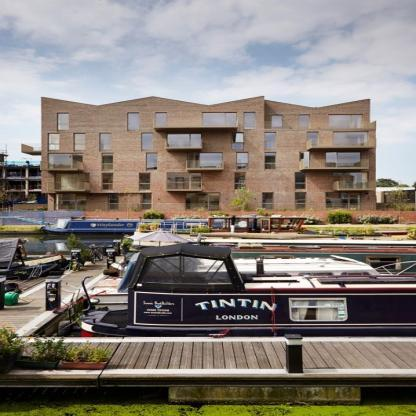Balcony: (153, 119, 239, 128), (307, 138, 376, 148), (300, 160, 369, 169), (47, 182, 90, 192), (41, 160, 83, 170), (186, 160, 224, 170), (334, 181, 371, 191), (167, 182, 201, 191), (21, 144, 42, 153)
Building Outline: (20, 95, 377, 211)
Door: (226, 113, 237, 130), (190, 133, 201, 150), (72, 153, 83, 170), (190, 173, 201, 190), (209, 193, 220, 210), (327, 152, 338, 169), (334, 173, 345, 189), (79, 174, 90, 190), (189, 153, 200, 169), (307, 132, 318, 148), (351, 115, 362, 130)
Facade: (20, 96, 377, 212)
Floor Slab: (42, 191, 376, 193), (42, 130, 376, 131), (42, 151, 376, 152), (42, 171, 376, 172)
Window: (334, 133, 368, 149), (326, 192, 348, 210), (49, 153, 72, 170), (167, 133, 189, 150), (339, 152, 361, 169), (167, 173, 189, 190), (186, 193, 208, 210), (203, 113, 225, 130), (55, 174, 78, 190), (346, 173, 368, 189), (201, 153, 222, 169), (55, 194, 75, 210), (329, 115, 350, 130), (262, 192, 274, 210), (295, 192, 307, 210), (58, 113, 69, 130), (128, 113, 139, 130), (48, 133, 59, 150), (156, 113, 167, 130), (244, 113, 255, 130), (142, 133, 153, 150), (74, 133, 85, 150), (233, 133, 244, 150), (100, 133, 111, 150), (147, 153, 158, 170), (237, 152, 248, 169), (265, 152, 276, 169), (102, 153, 113, 170), (139, 173, 150, 190), (102, 173, 113, 190), (265, 133, 276, 150), (235, 173, 245, 190), (142, 193, 152, 210), (295, 173, 305, 189), (109, 194, 119, 210), (300, 152, 309, 169), (272, 115, 282, 130), (299, 115, 309, 130)
